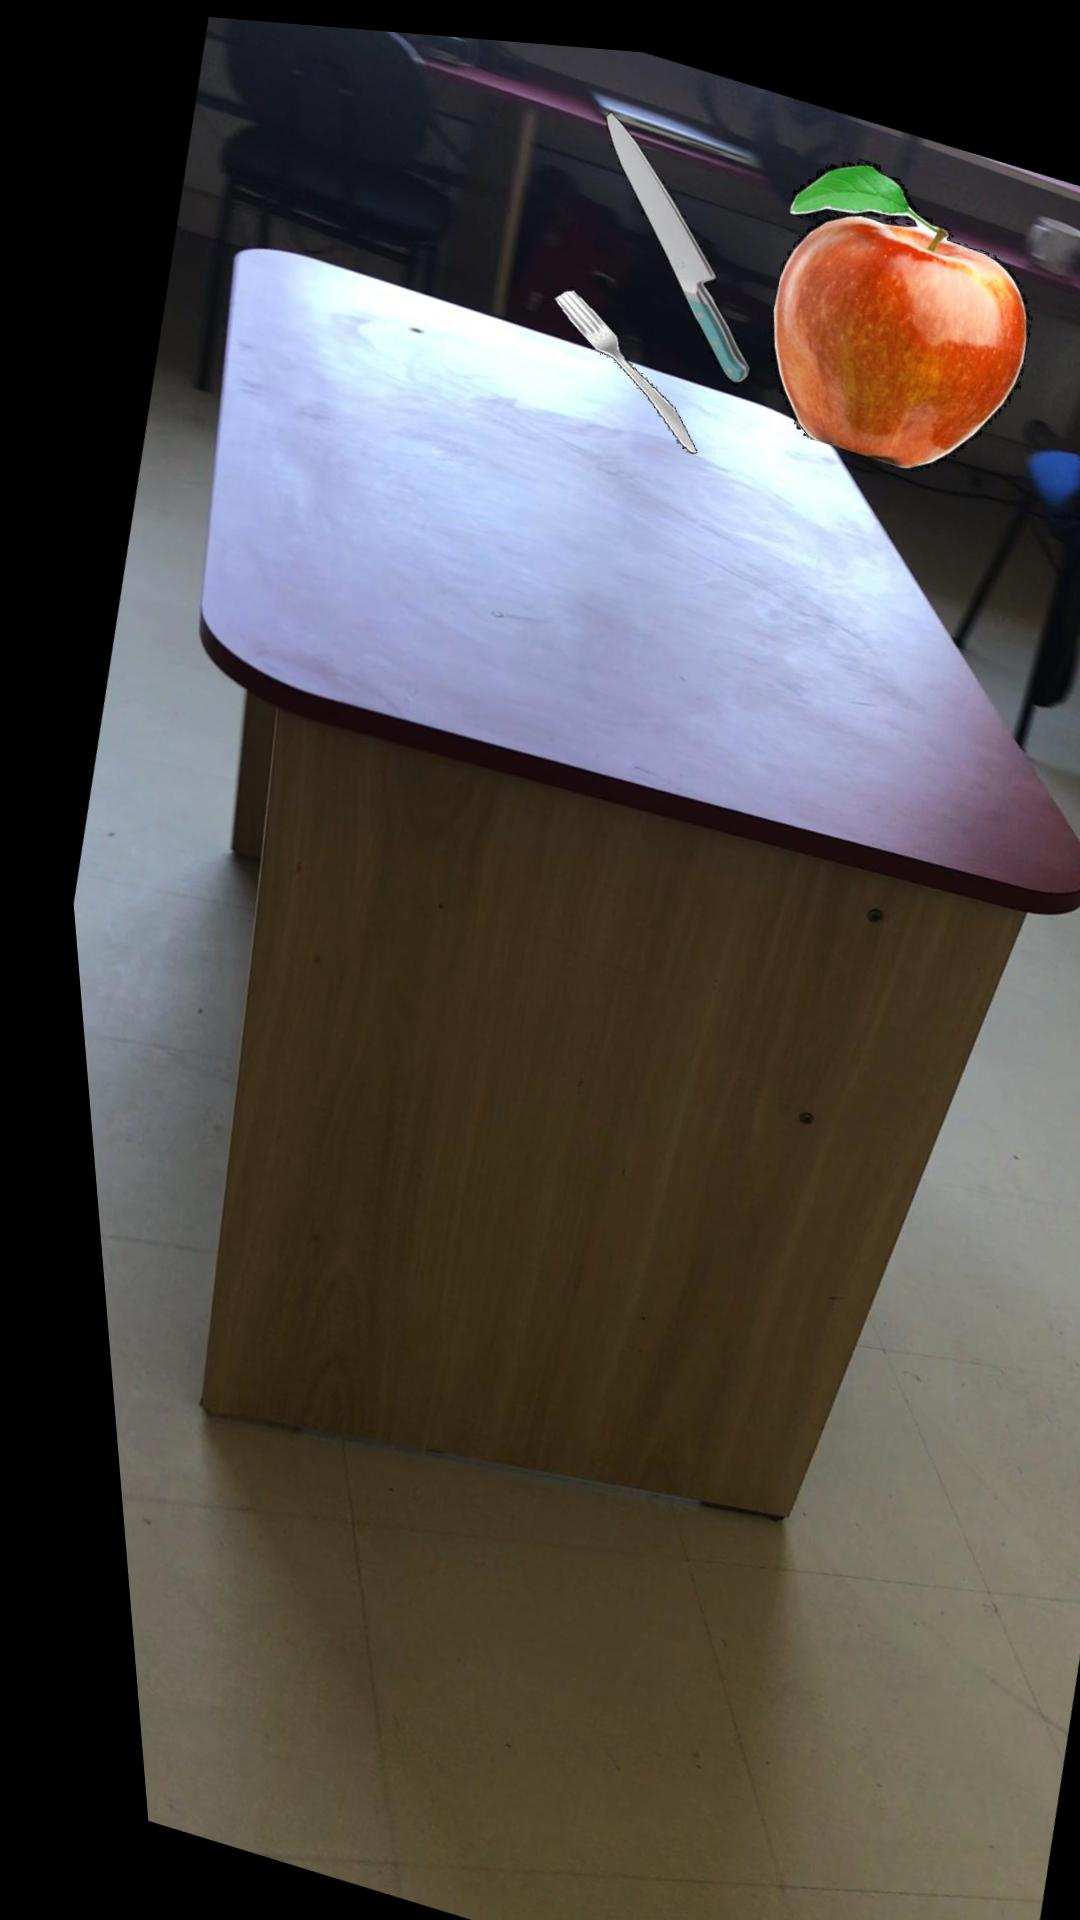apple: (766, 144, 1027, 452)
fork: (551, 277, 691, 439)
knife: (605, 99, 746, 372)
